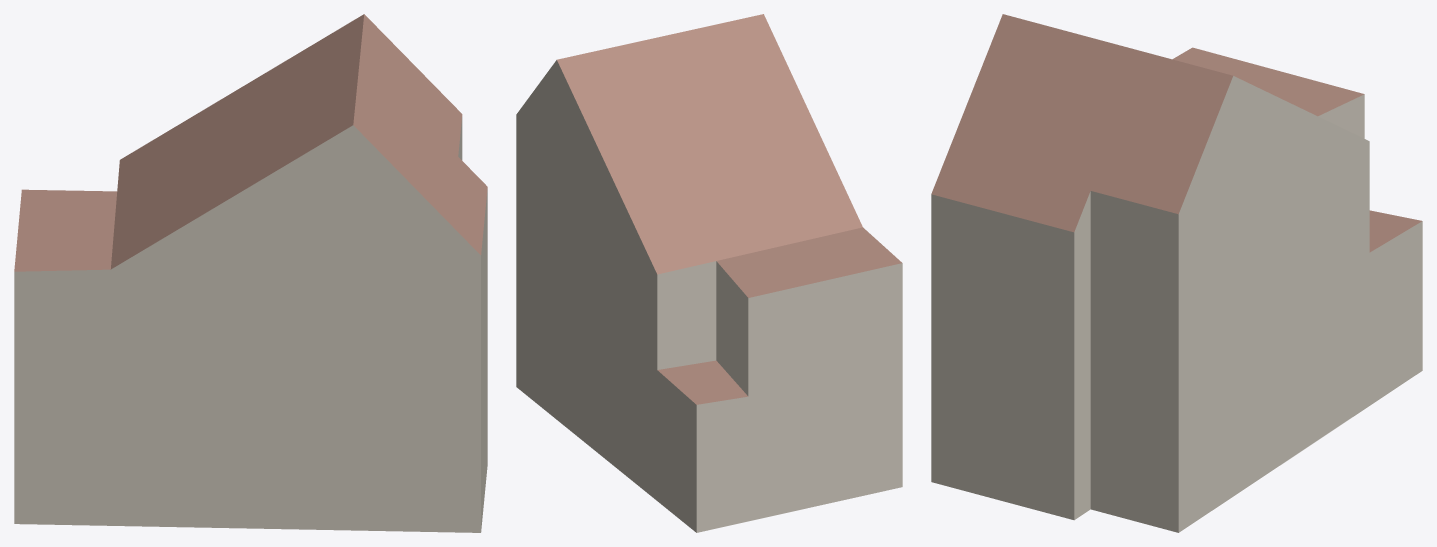
The picture shows the model from 3 angles, left to right: view 1: azimuth 30°, elevation 25°; view 2: azimuth 150°, elevation 25°; view 3: azimuth 270°, elevation 25°; orthographic projection. The views are drawn at different scales.
Bounding box in the file's own units: 11.23 × 9.85 × 10.43.
